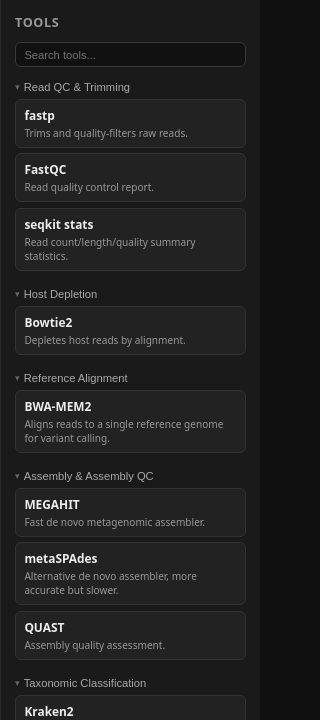
Test: NodePalette › clicking a category header collapses and re-expands its tools
expect the text "fastp" is shown: met, box 24,107 -> 55,123
Click the button "▾ Read QC & Trimming": click(130, 87) 15,81 -> 246,93
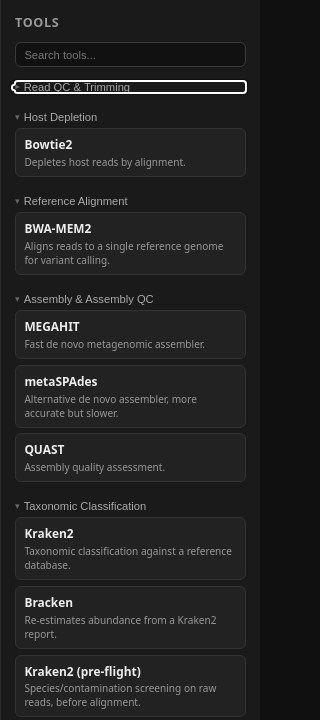
expect the button "▾ Read QC & Trimming" is collapsed: met
expect the button "fastp" is gone: met
Click the button "▾ Read QC & Trimming": click(130, 87) 15,81 -> 246,93
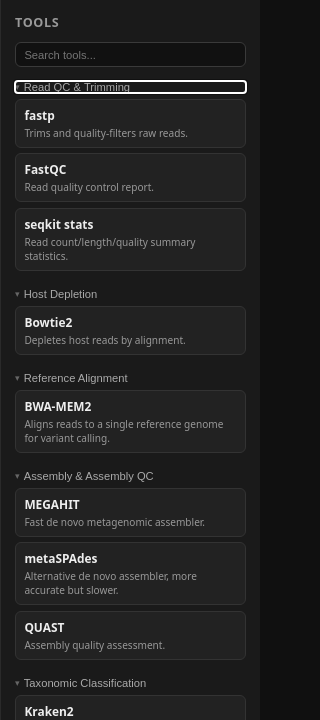
expect the button "▾ Read QC & Trimming" is expanded: met, box 15,81 -> 246,93
expect the text "fastp" is shown: met, box 24,107 -> 55,123
